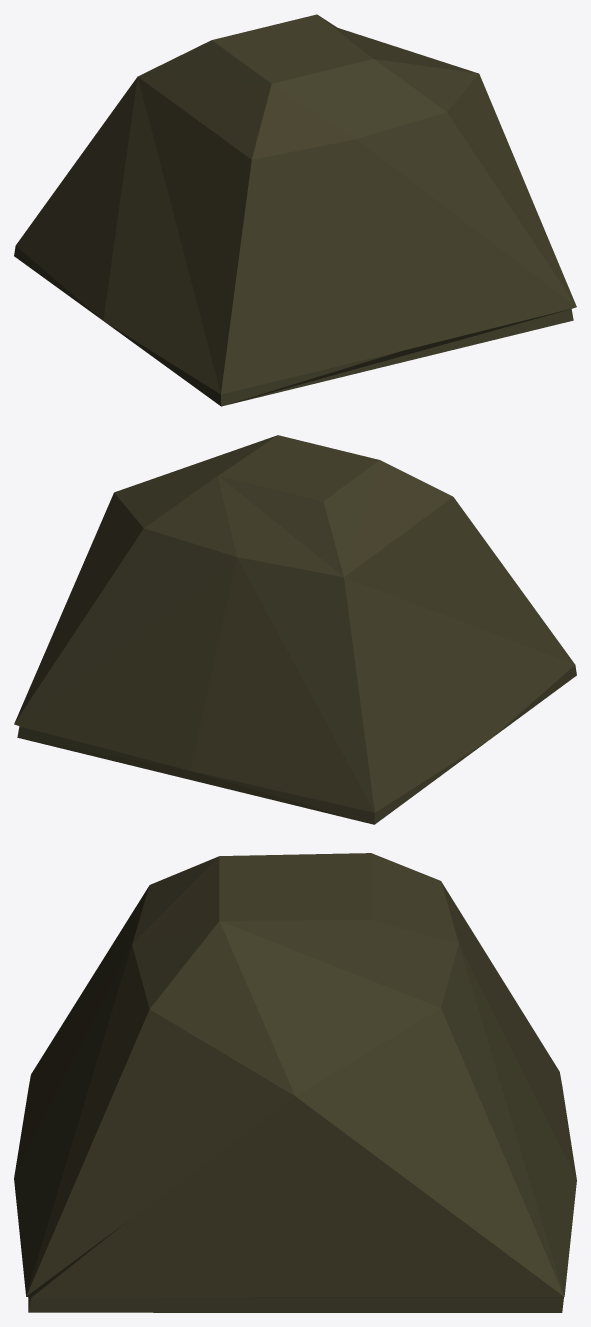
File: tent-dome.lod2.glb
3 views of the same model, one above another, from view 1: azimuth 30°, elevation 25°; view 2: azimuth 150°, elevation 25°; view 3: azimuth 270°, elevation 25° (orthographic). The views are drawn at different scales.
Visible parts, largest first — view 1: defaultMaterial; view 2: defaultMaterial; view 3: defaultMaterial.
Part boxes in pixels (x1,y1,x2,y2): defaultMaterial: (14, 14, 576, 406); defaultMaterial: (14, 435, 576, 824); defaultMaterial: (14, 853, 576, 1312).
Bounding box in the file's own units: 2.33 × 1.42 × 2.32.
